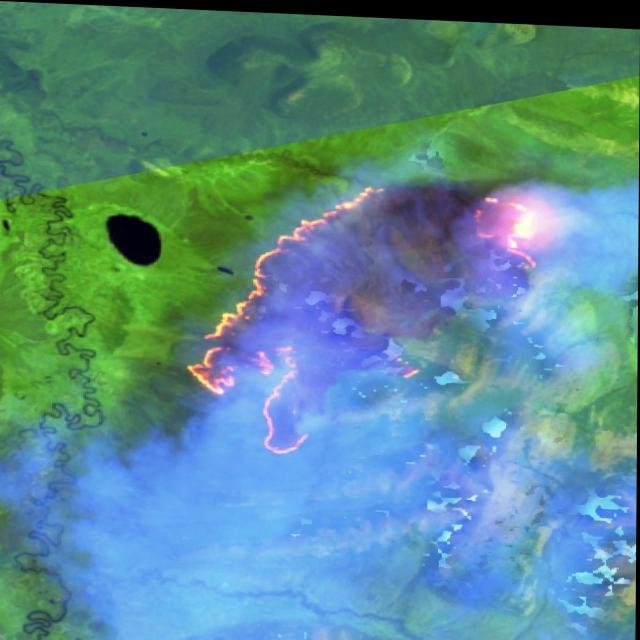fire: (180, 165, 556, 466)
